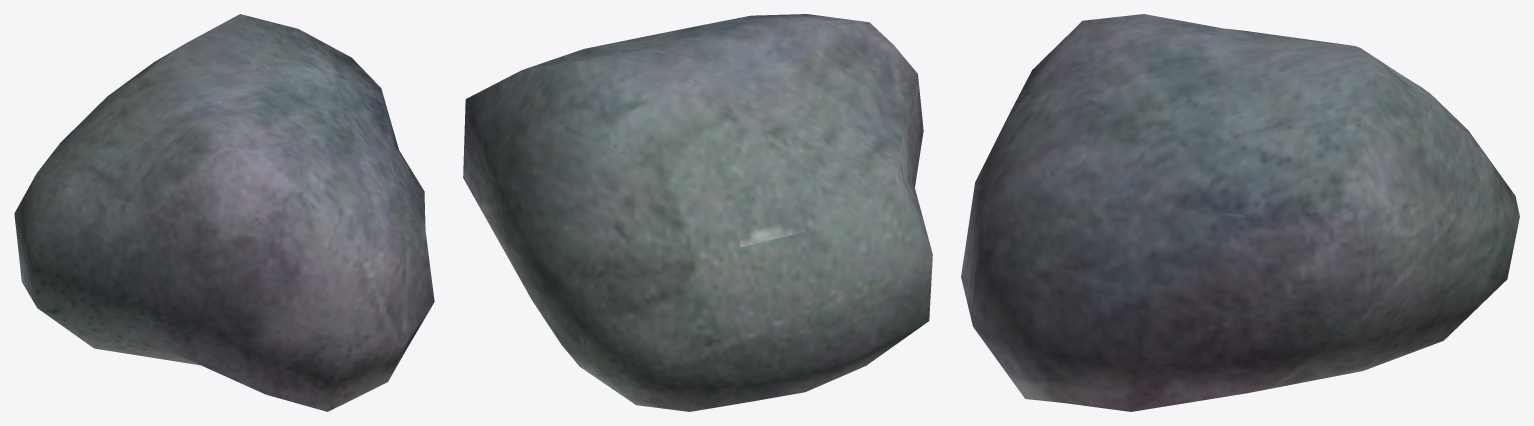
File: Rocks 04.glb
3 renders of one model, left to right at view 1: azimuth 30°, elevation 25°; view 2: azimuth 150°, elevation 25°; view 3: azimuth 270°, elevation 25°, orthographic. The views are drawn at different scales.
Visible parts, largest first — view 1: Rock 04; view 2: Rock 04; view 3: Rock 04.
Part boxes in pixels (x1,y1,x2,y2): Rock 04: (14, 14, 434, 411); Rock 04: (463, 14, 932, 411); Rock 04: (961, 14, 1519, 411).
Size of what is drawn, in the model's own units: 2.51 by 1.77 by 2.69.
1 material, 1 textured.
